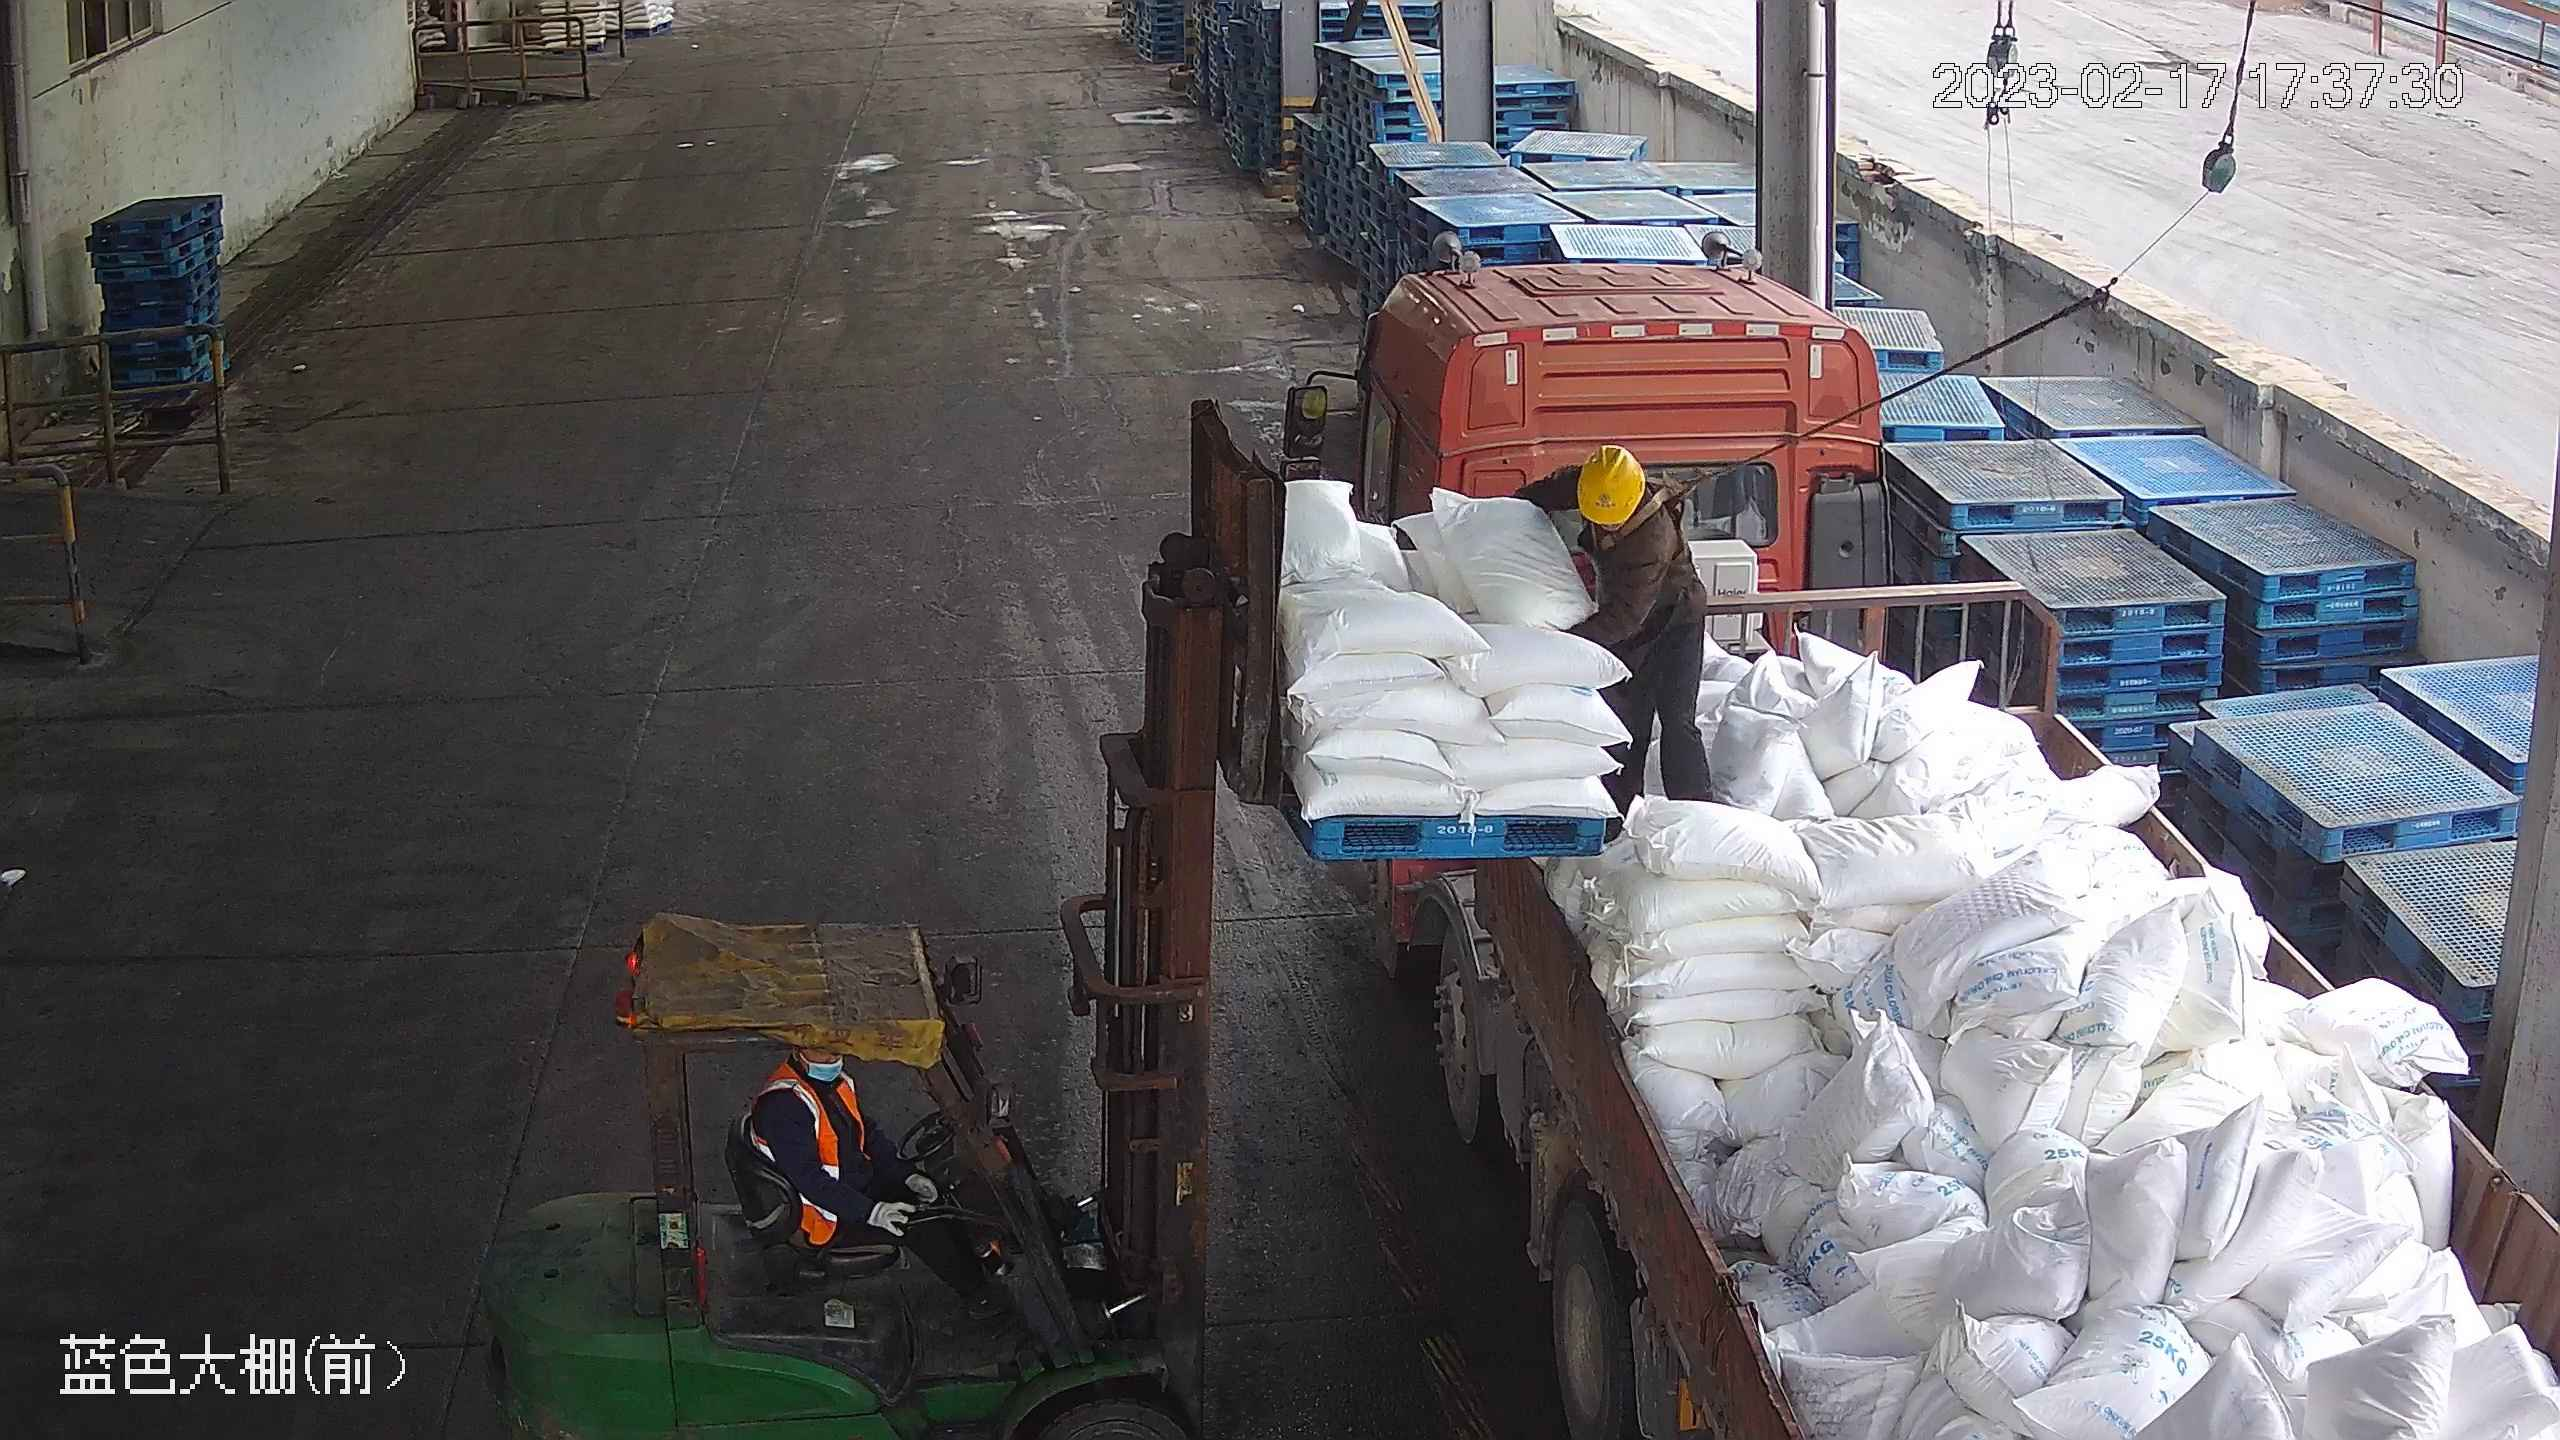belt: (1581, 469, 1705, 568)
head: (1558, 442, 1696, 561), (748, 1037, 878, 1141)
helmet: (1572, 441, 1647, 527)
people: (1514, 439, 1712, 840), (741, 1034, 991, 1340)
truck: (1278, 262, 2560, 1438)
